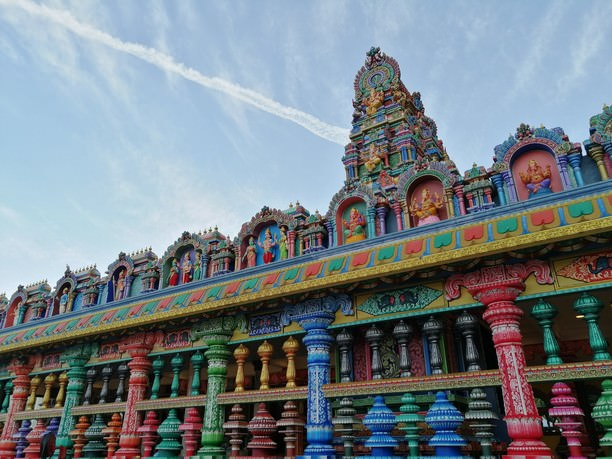Buddhist Temple: (2, 22, 612, 439)
